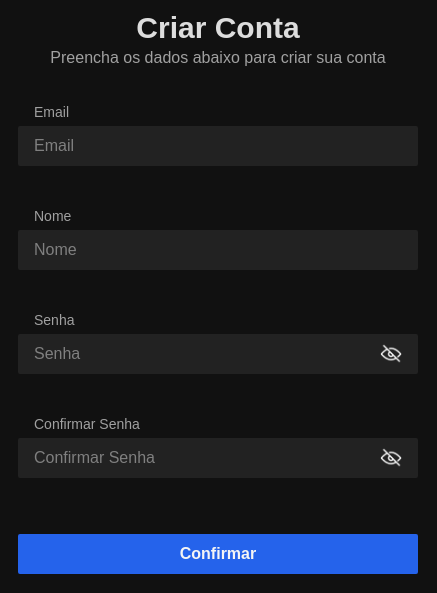
it: Create User Component › Should display errors on the fields
Step 1. Type "notValid" into the field with placeholder "Email" → coordinates (218, 146), box [18,126,418,166]
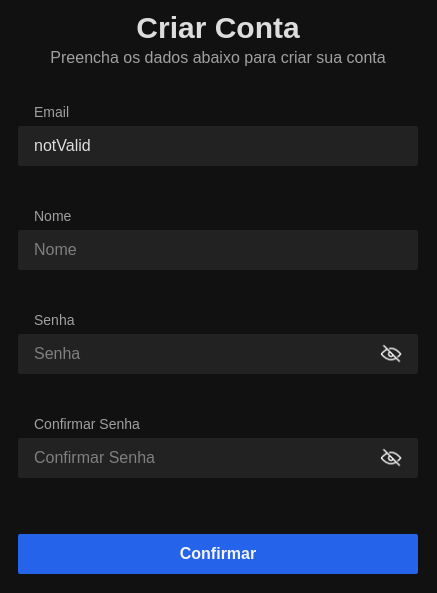
Step 2. Type "user" into the password field with placeholder "Senha" → coordinates (207, 354), box [34,342,380,366]
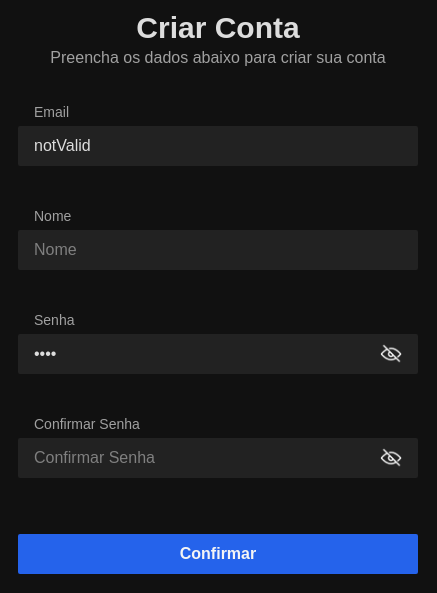
Step 3. Type "1234" into the password field with placeholder "Confirmar Senha" → coordinates (207, 458), box [34,446,380,470]
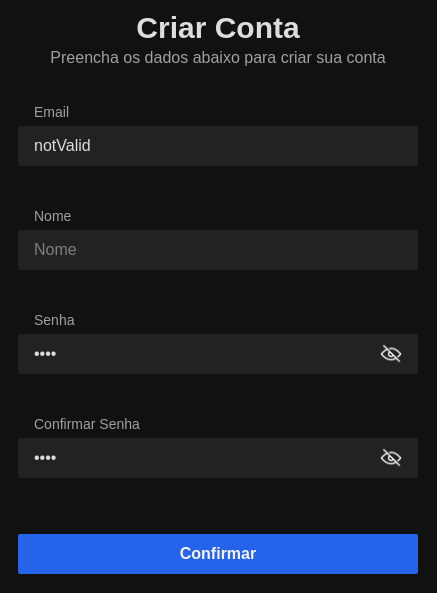
Step 4. Click the button "Confirmar" → coordinates (218, 554), box [18,534,418,574]
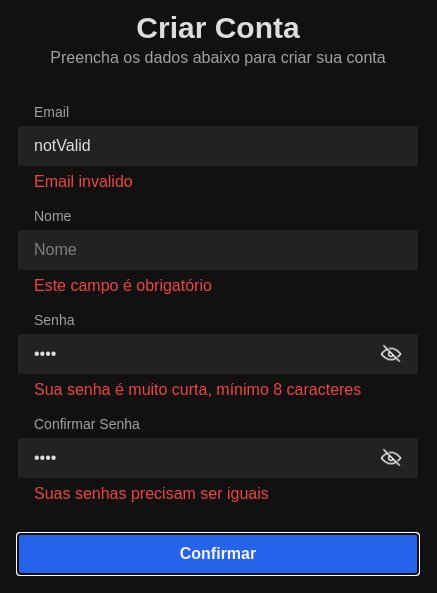
Expected: the text "Email invalido" is shown, [34,173,133,190]
Expected: the text "Este campo é obrigatório" is shown, [34,277,212,294]
Expected: the text "Sua senha é muito curta, mínimo 8 caracteres" is shown, [34,381,361,398]
